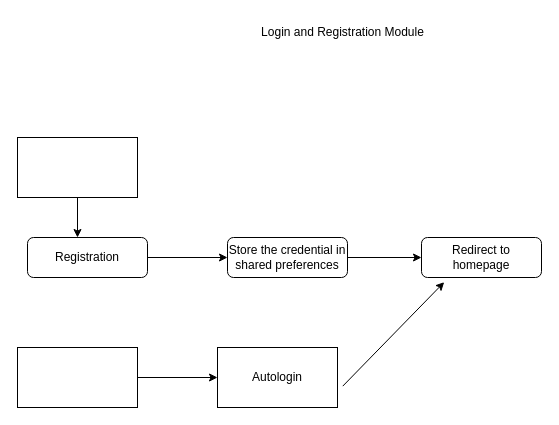
The diagram is 559 pixels wide and 425 high, and some of its shapes have lost their labels. Each missing label, with the centre of its shape:
First time the user uses the app: point (77, 167)
The second time user uses the app: point (77, 377)
